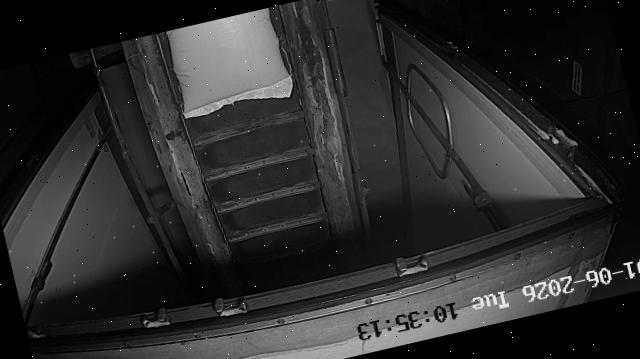bag: (165, 5, 296, 122)
